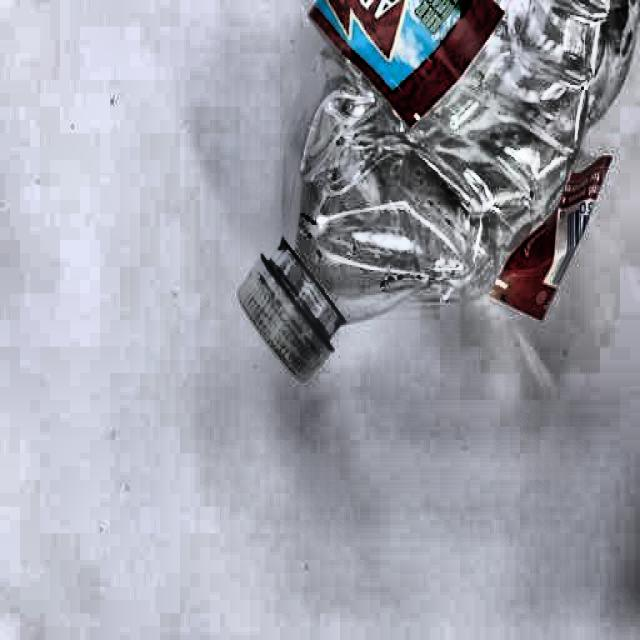plastic: (238, 3, 640, 389)
